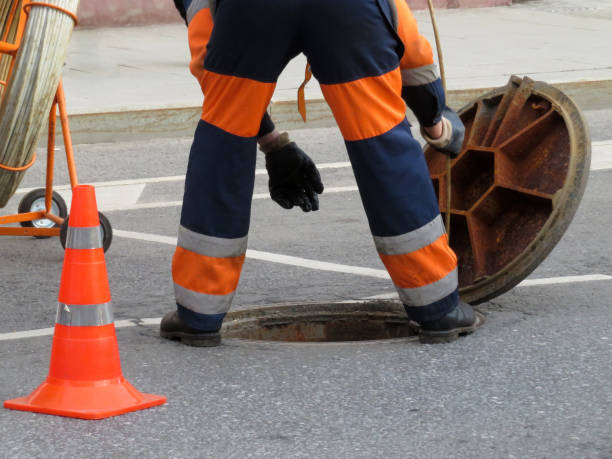open_manhole: (201, 305, 459, 339)
